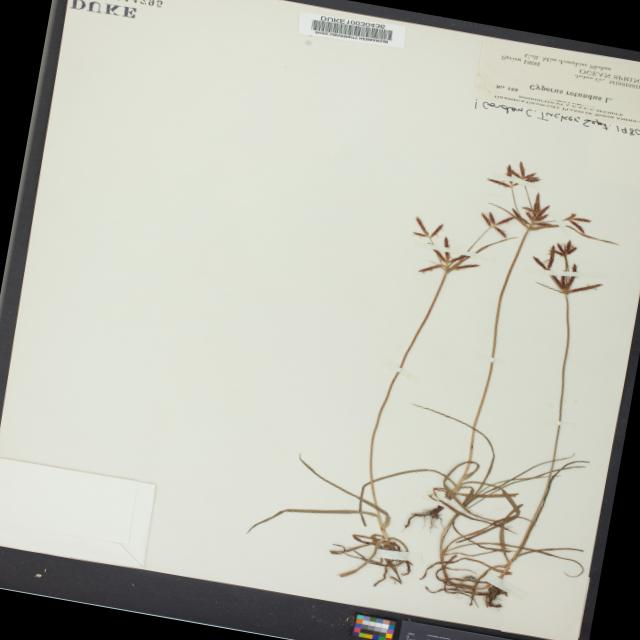cyperus: (375, 125, 640, 322)
